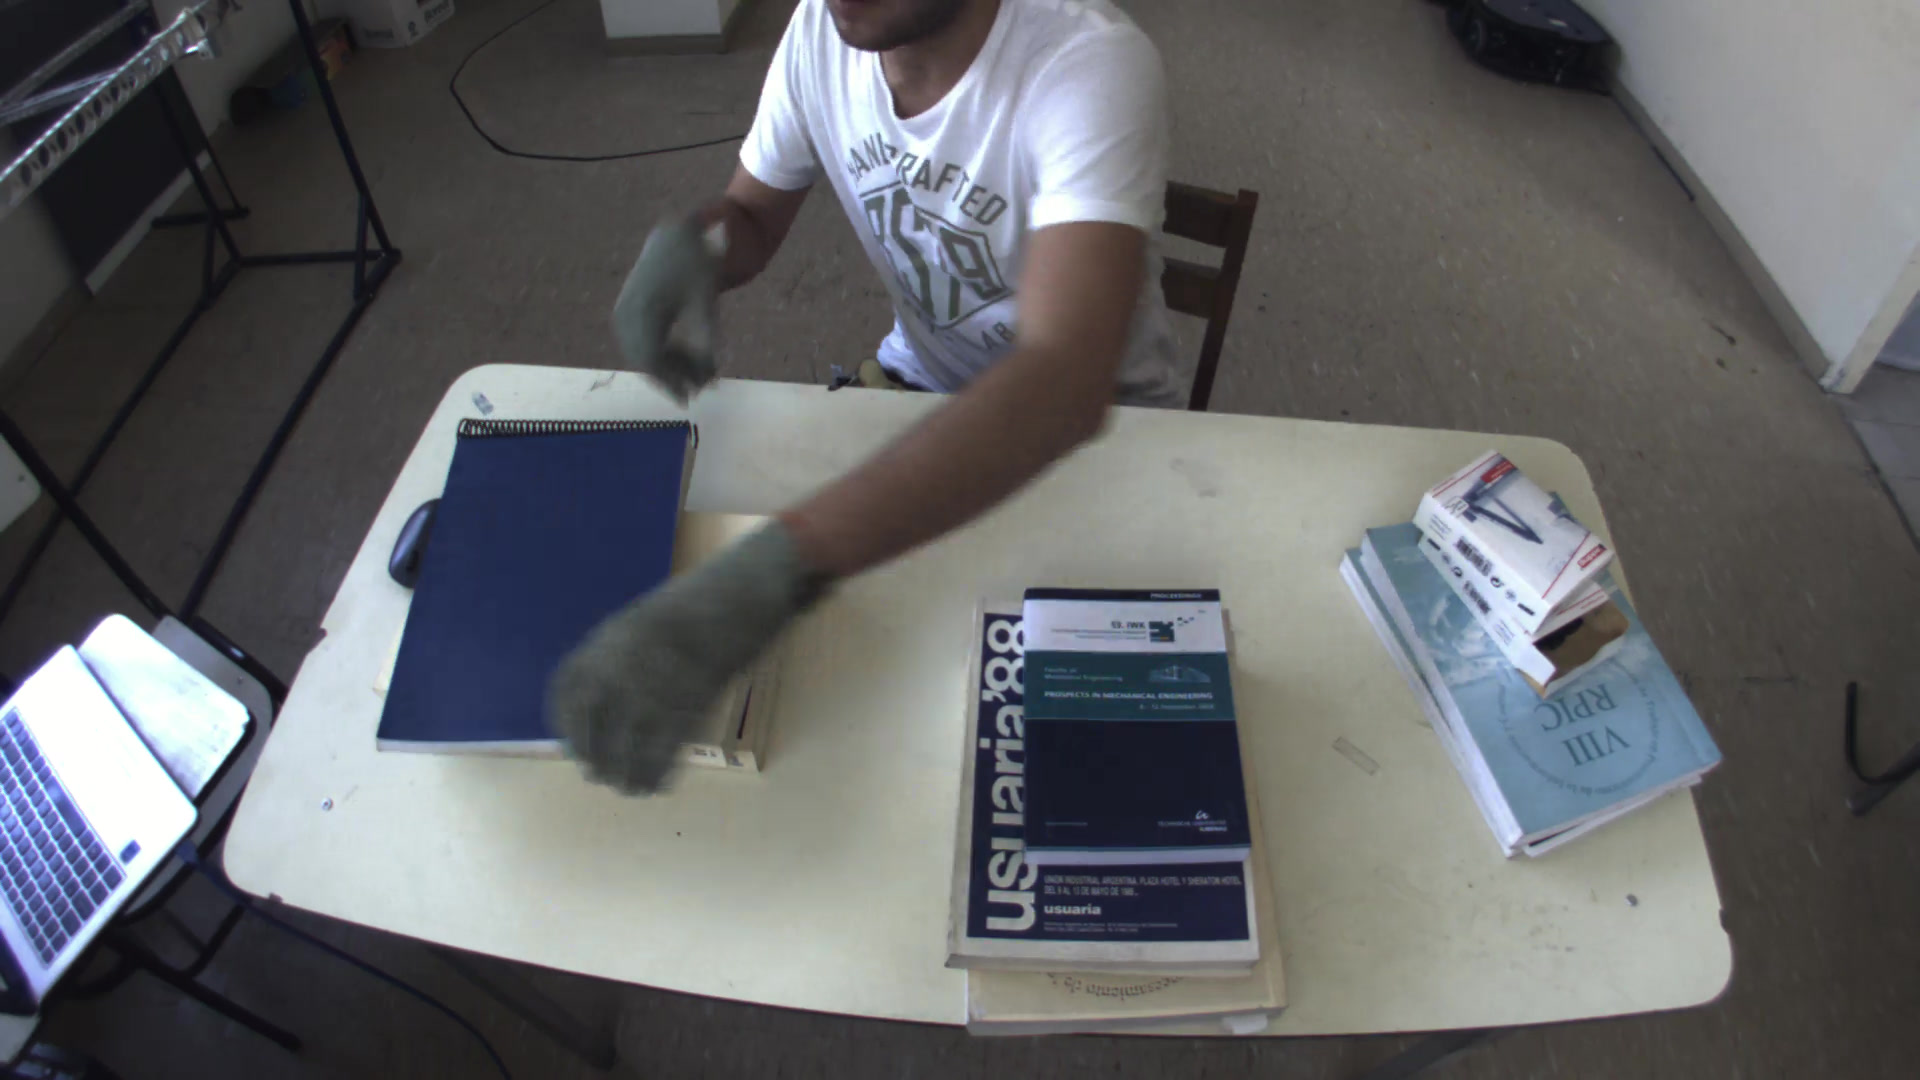hand: (538, 529, 806, 807), (599, 202, 741, 415)
